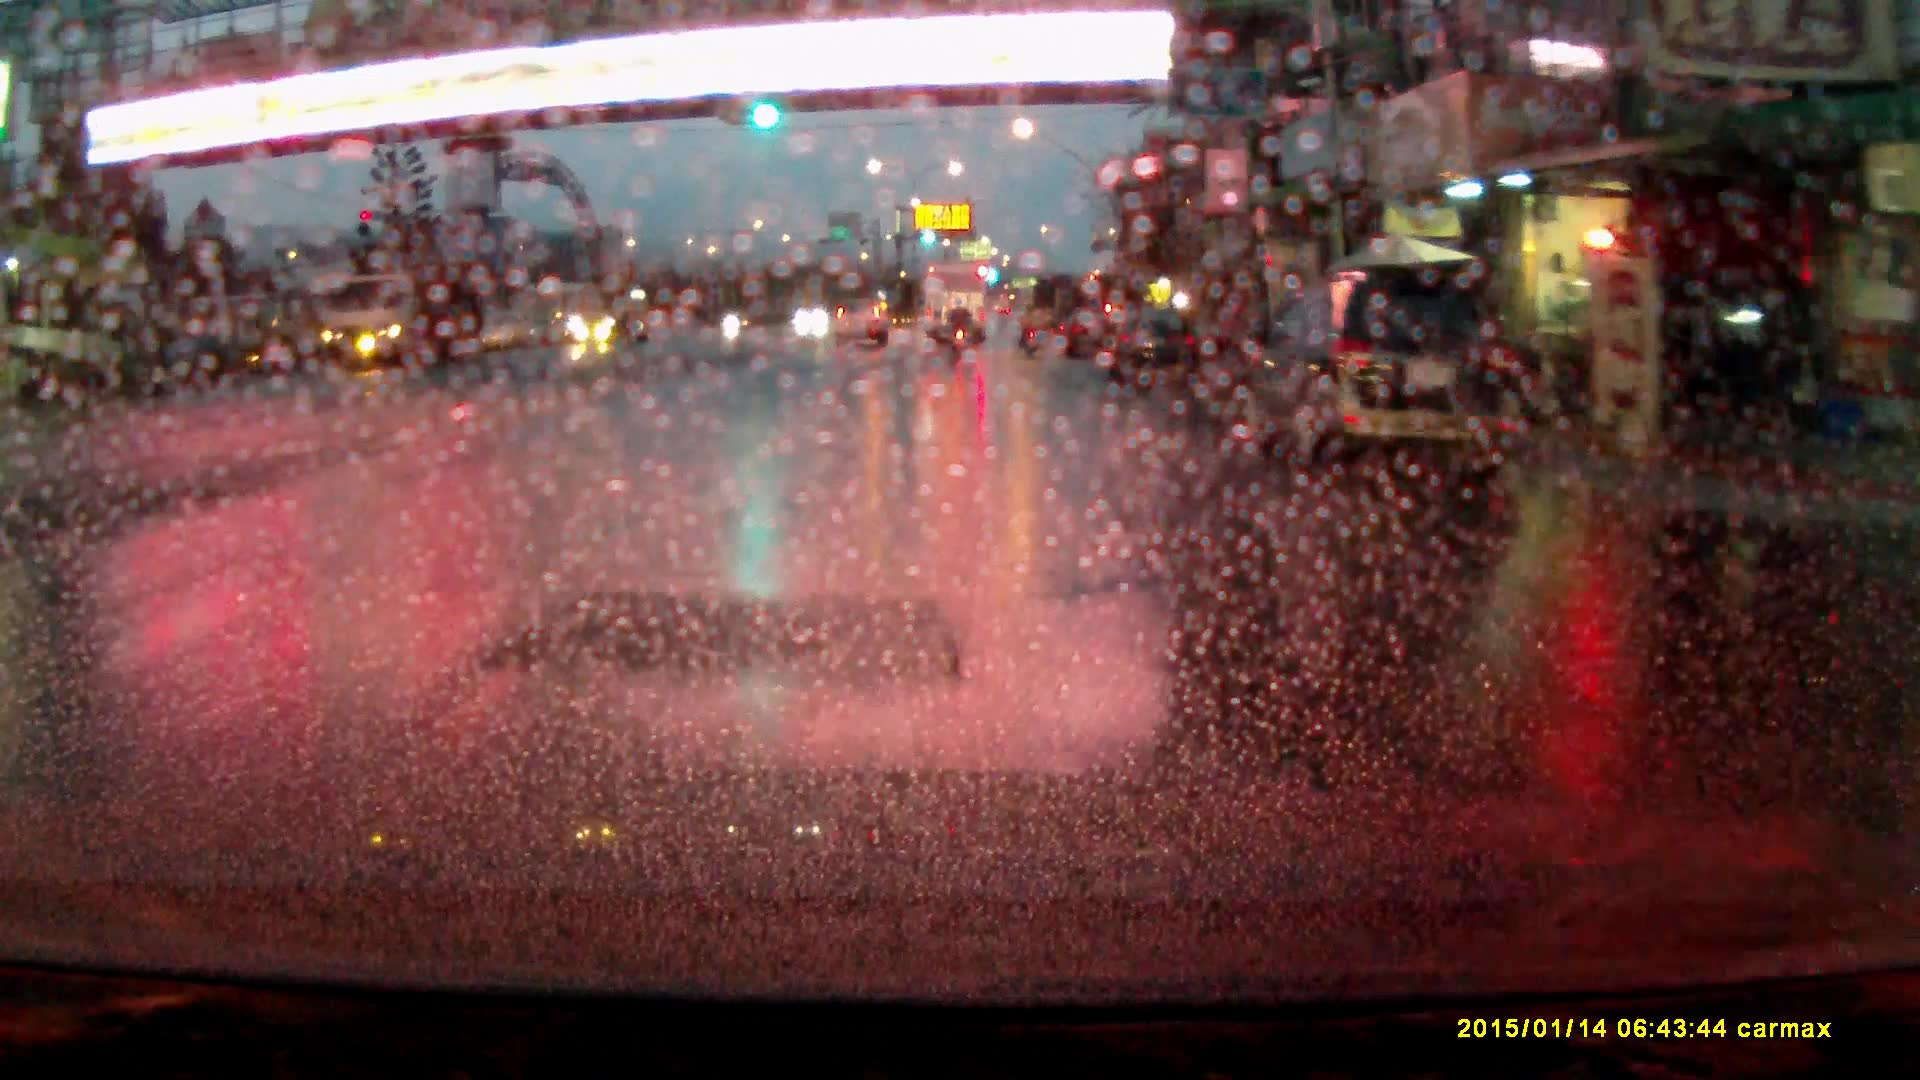rider: (948, 297, 974, 356)
vehicle: (1237, 266, 1530, 477), (1665, 289, 1813, 434), (315, 274, 475, 374), (1105, 308, 1201, 387), (566, 289, 659, 348), (922, 266, 991, 344), (1062, 308, 1126, 363), (833, 282, 891, 330)
